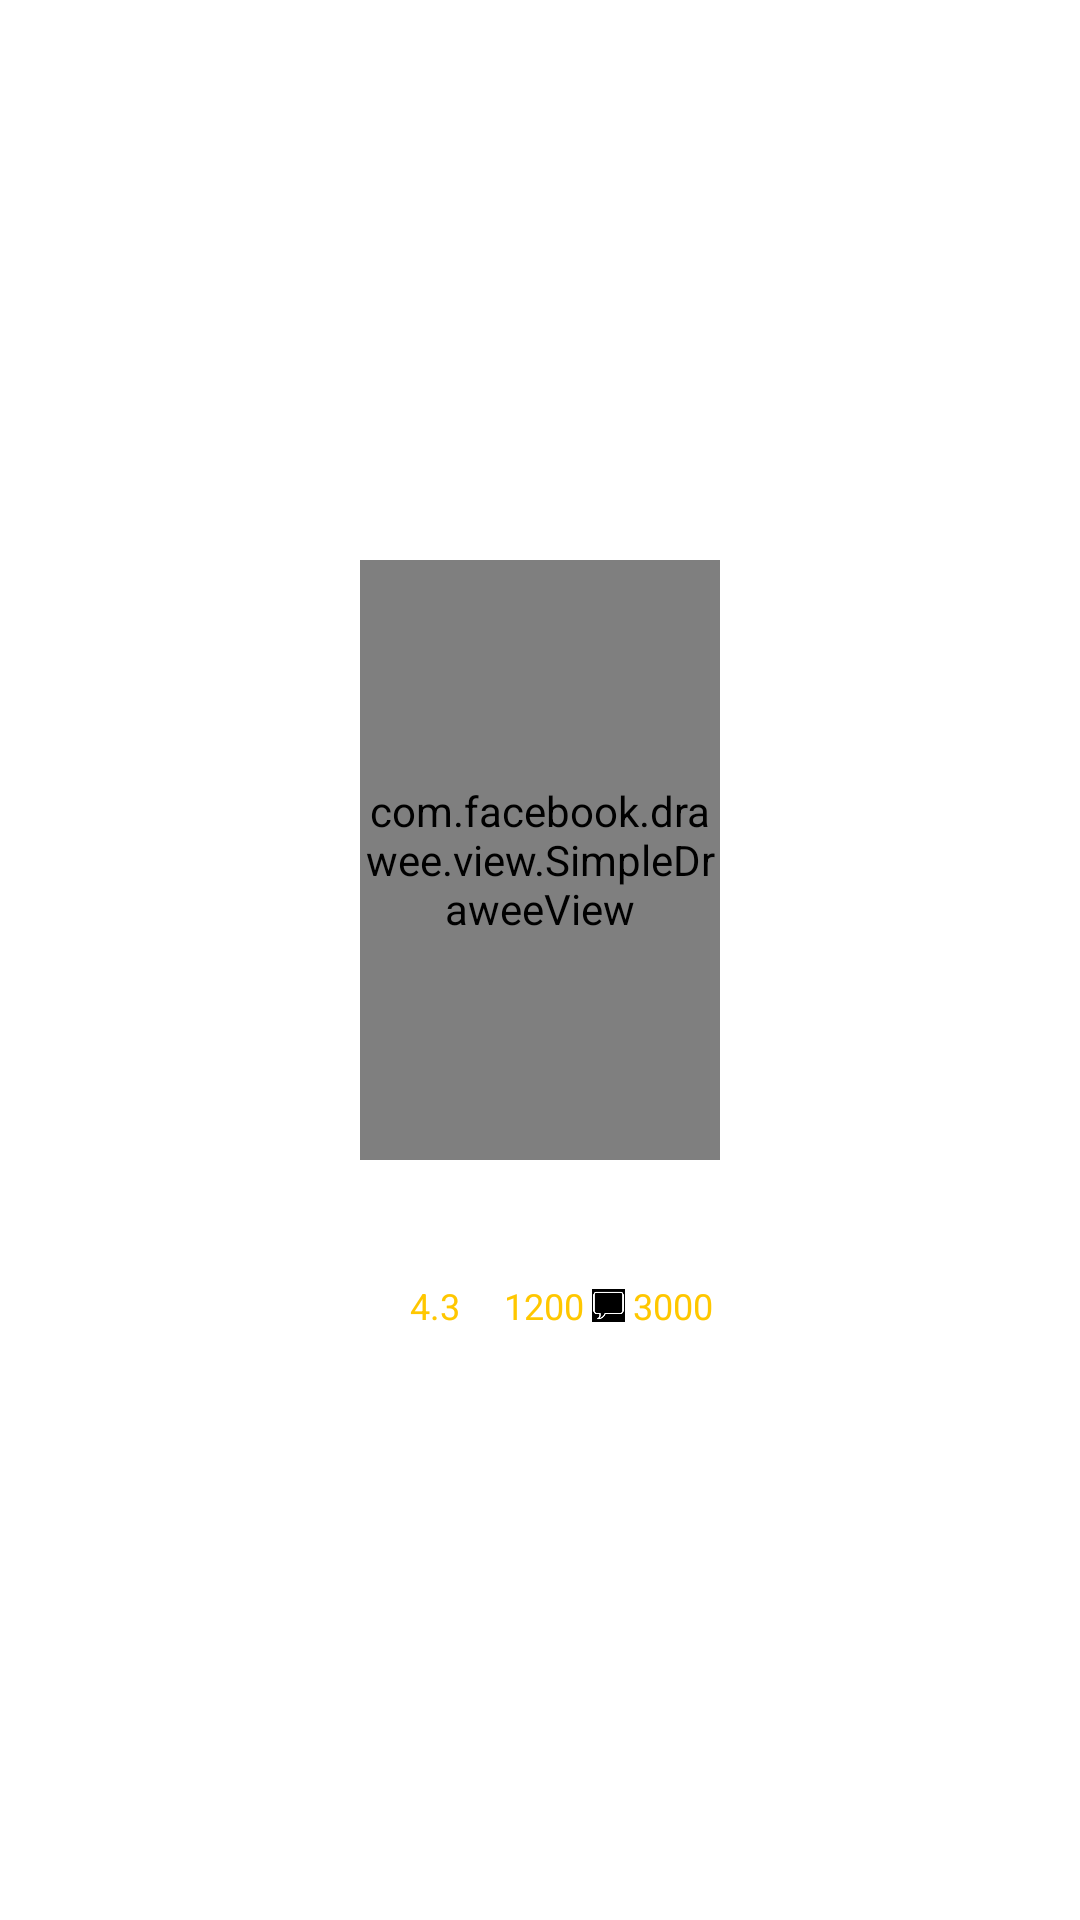

Icon click points for this 1080*1920 phone screenshot, format (x,y):
comment: (608,1305)
